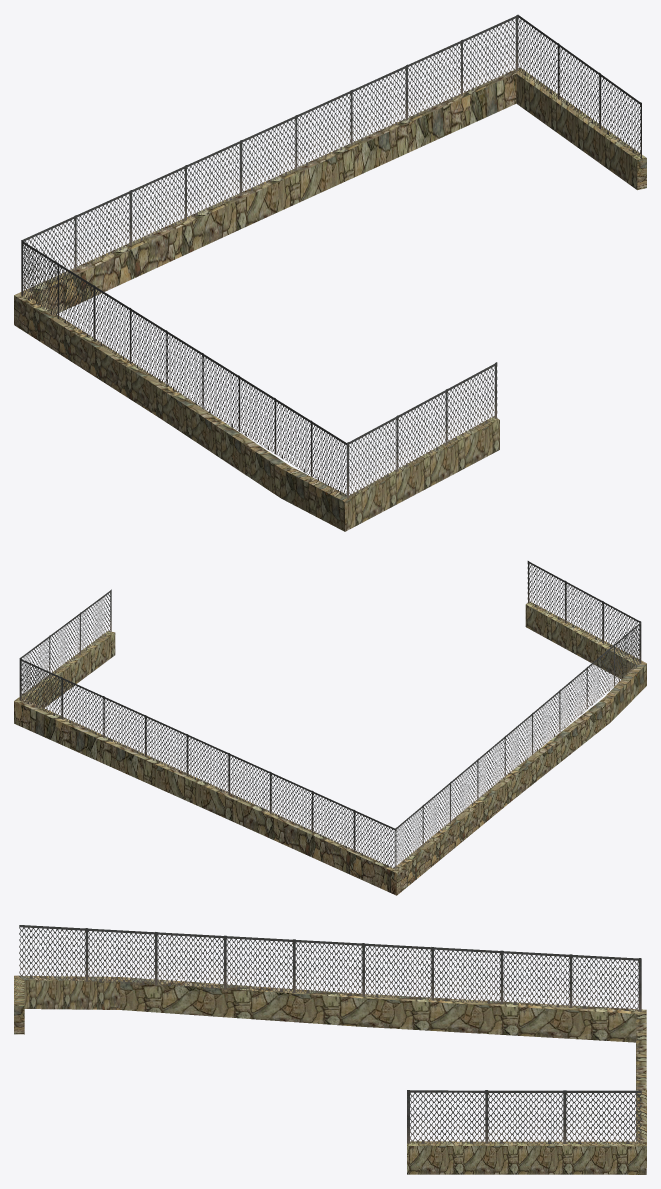
File: des_nwshfenc.obj
The picture shows the model from 3 angles, top to bottom: view 1: azimuth 30°, elevation 25°; view 2: azimuth 150°, elevation 25°; view 3: azimuth 270°, elevation 25°; orthographic projection. The views are drawn at different scales.
Visible parts, largest first — view 1: des_nwshfenc; view 2: des_nwshfenc; view 3: des_nwshfenc.
Part boxes in pixels (left/top/right/bottom): des_nwshfenc: left=14, top=14, right=646, bottom=531; des_nwshfenc: left=14, top=561, right=646, bottom=895; des_nwshfenc: left=14, top=925, right=646, bottom=1174.
Size of the model in its own units: 19.14 by 6.79 by 21.27.
2 materials, 2 textured.
